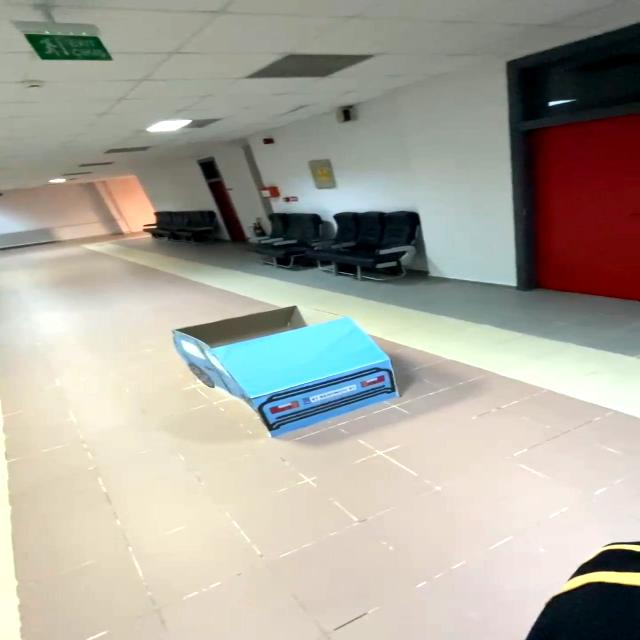blue_car: (148, 302, 441, 439)
